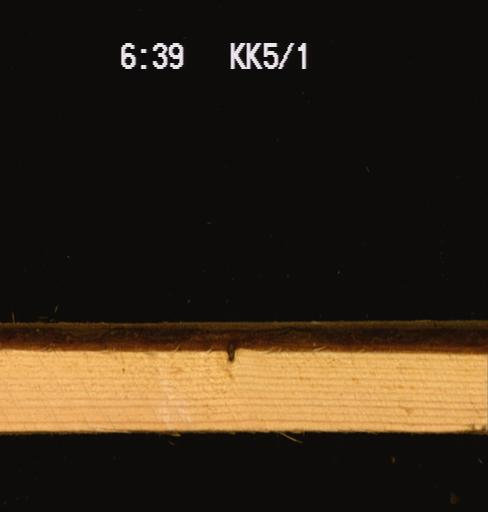wave: (0, 317, 487, 353)
